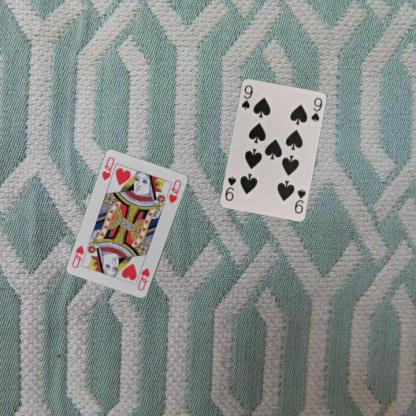9s: (238, 82, 254, 110), (292, 186, 307, 214)
Qh: (100, 154, 116, 182), (134, 265, 150, 292)
